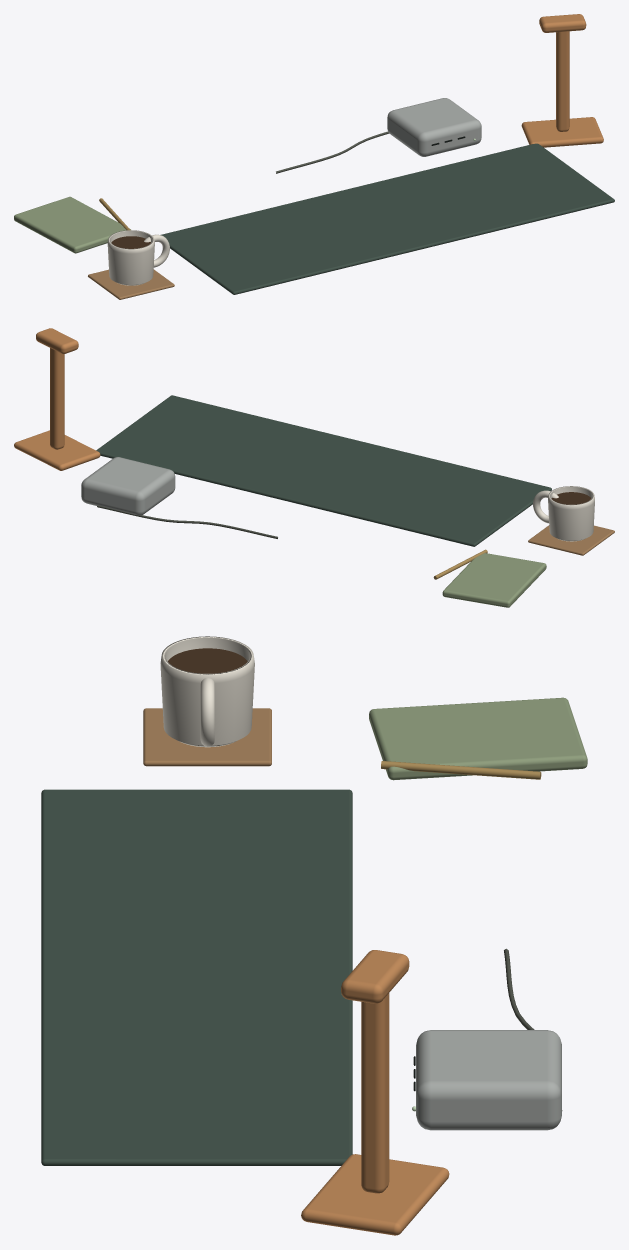
The model's file is desk.glb.
3 views of the same model, one above another, from view 1: azimuth 30°, elevation 25°; view 2: azimuth 150°, elevation 25°; view 3: azimuth 270°, elevation 25° (orthographic). The views are drawn at different scales.
Visible parts, largest first — view 1: WoolDeskMat, Original oak desk and creator tools, OakHeadphoneBase, OakHeadphoneStand, OakHeadphoneRest; view 2: WoolDeskMat, Original oak desk and creator tools, OakHeadphoneBase, OakHeadphoneStand, OakHeadphoneRest; view 3: WoolDeskMat, Original oak desk and creator tools, OakHeadphoneBase, OakHeadphoneStand, OakHeadphoneRest.
Boxes of the visible parts, bbox=[...] form: WoolDeskMat: bbox=[160, 143, 614, 294]; Original oak desk and creator tools: bbox=[14, 98, 481, 299]; OakHeadphoneBase: bbox=[521, 117, 603, 147]; OakHeadphoneStand: bbox=[556, 31, 569, 131]; OakHeadphoneRest: bbox=[539, 14, 586, 32]; WoolDeskMat: bbox=[96, 395, 551, 546]; Original oak desk and creator tools: bbox=[81, 457, 614, 607]; OakHeadphoneBase: bbox=[14, 430, 100, 470]; OakHeadphoneStand: bbox=[50, 348, 64, 449]; OakHeadphoneRest: bbox=[36, 328, 78, 354]; WoolDeskMat: bbox=[41, 789, 352, 1165]; Original oak desk and creator tools: bbox=[143, 636, 587, 1130]; OakHeadphoneBase: bbox=[301, 1154, 449, 1235]; OakHeadphoneStand: bbox=[361, 993, 389, 1193]; OakHeadphoneRest: bbox=[341, 950, 409, 1003].
Bounding box in the file's own units: 5.79 × 1.2 × 2.54.
